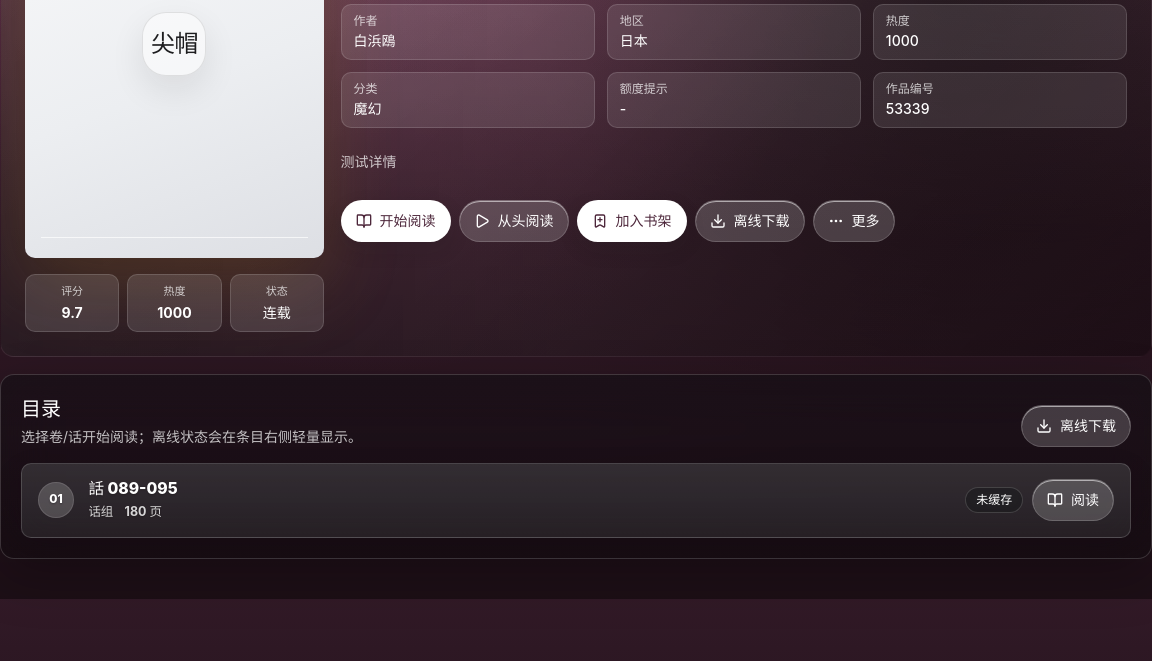
Test case: Detail reader entry › does not enqueue an empty reader download task set
(page scrolled)
Click the button named "获取 EPUB" at (1073, 500), box x1=1032 y1=479 x2=1114 y2=521
(page scrolled)
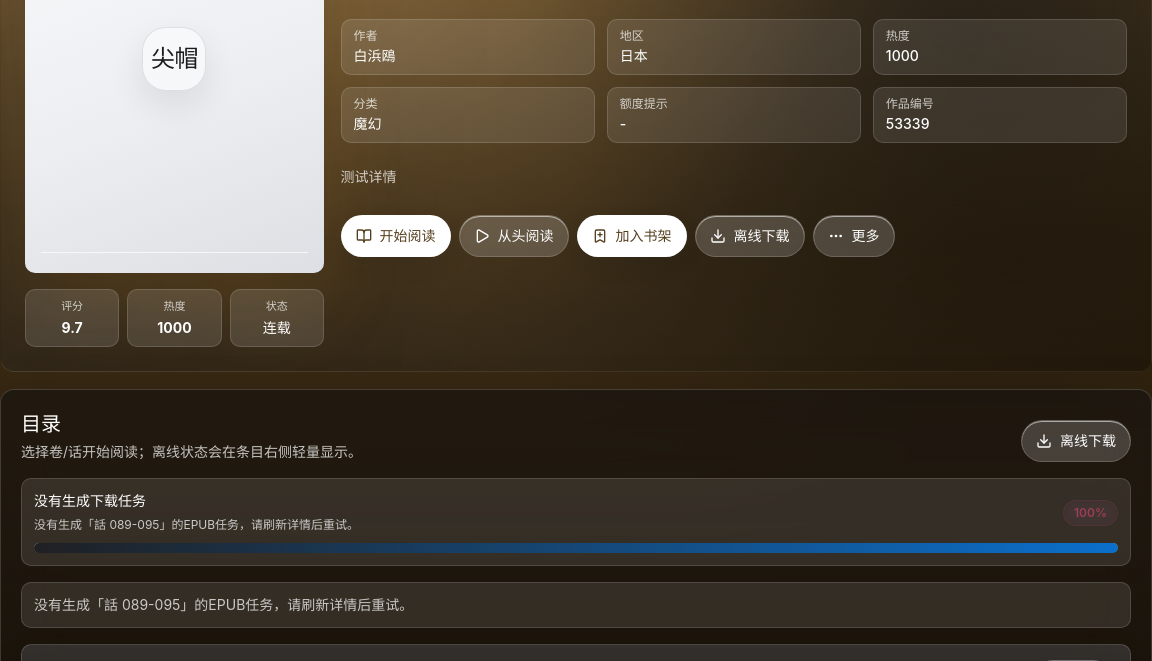
Expected: the text "没有生成「話 089-095」的EPUB任务，请刷新详情后重试。" below "没有生成下载任务" is shown, x1=34 y1=517 x2=359 y2=532
